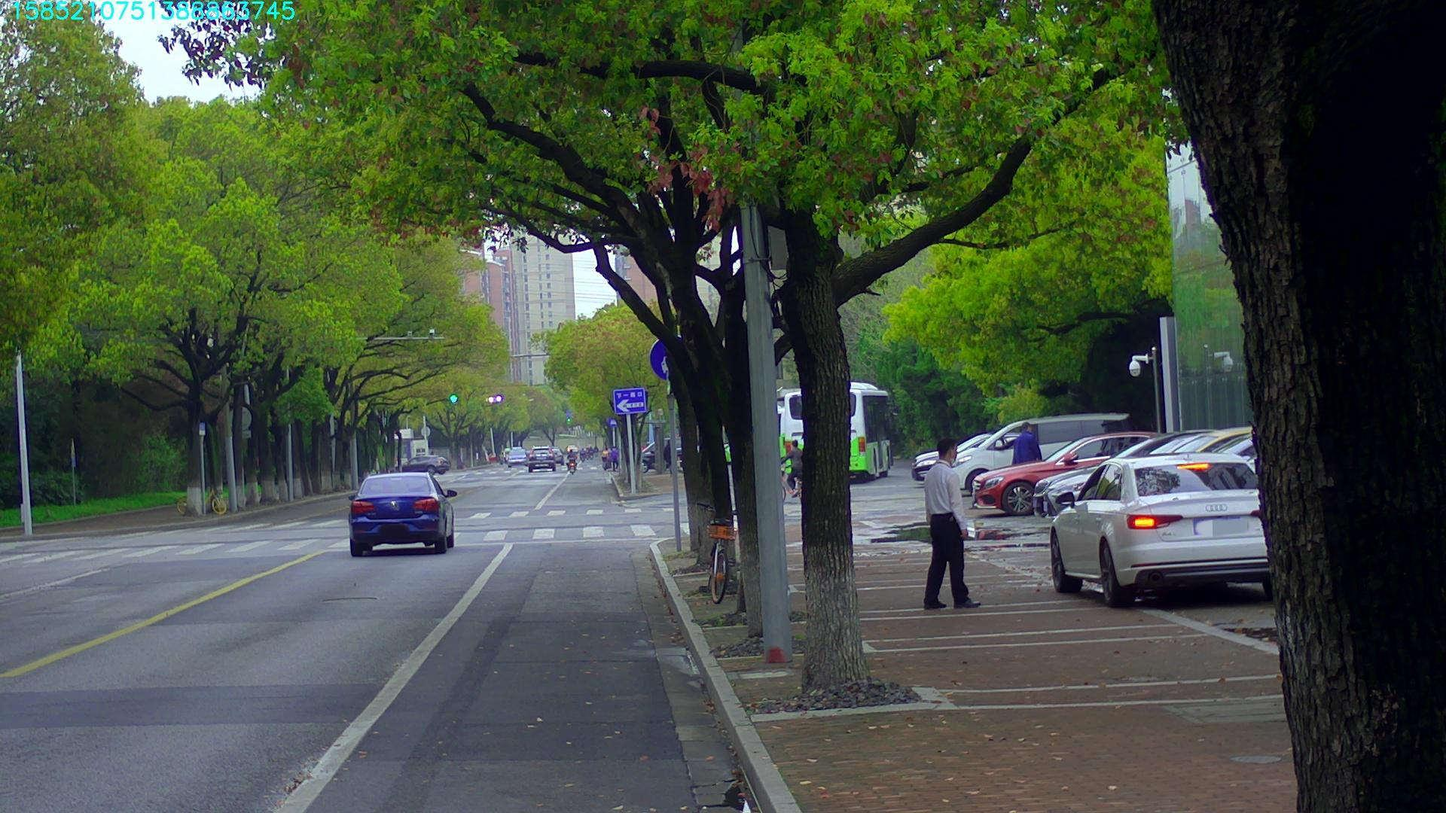green: (448, 393, 459, 406)
